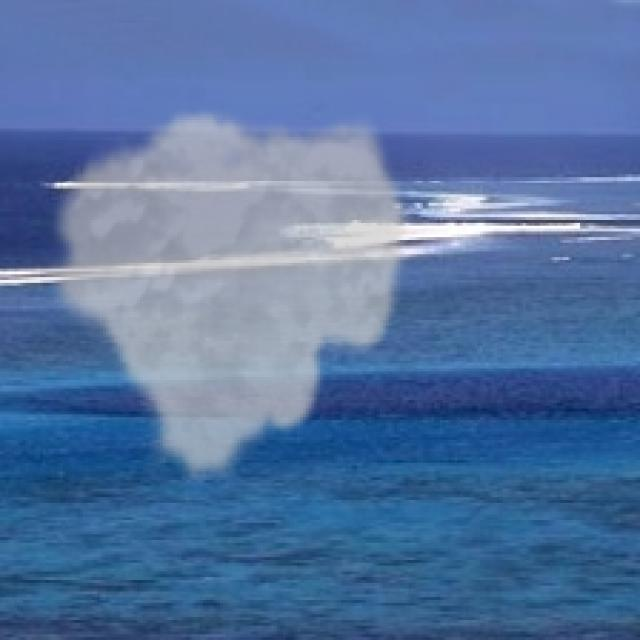smoke: (43, 106, 414, 486)
